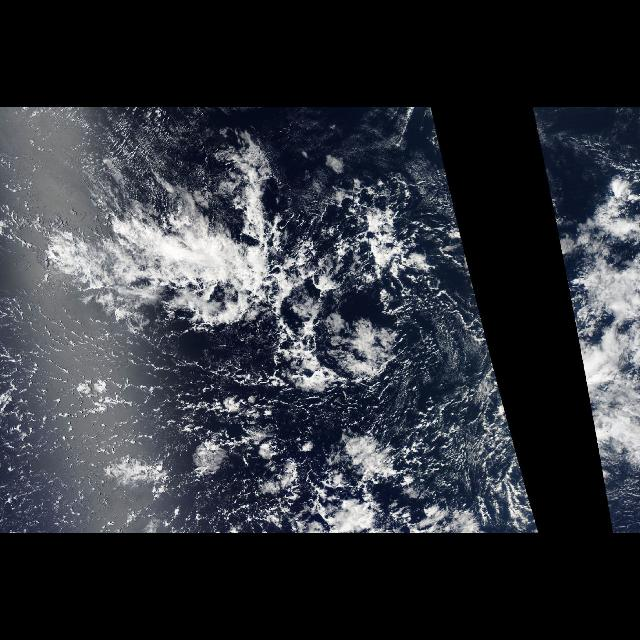Gravel: (1, 301, 436, 533)
